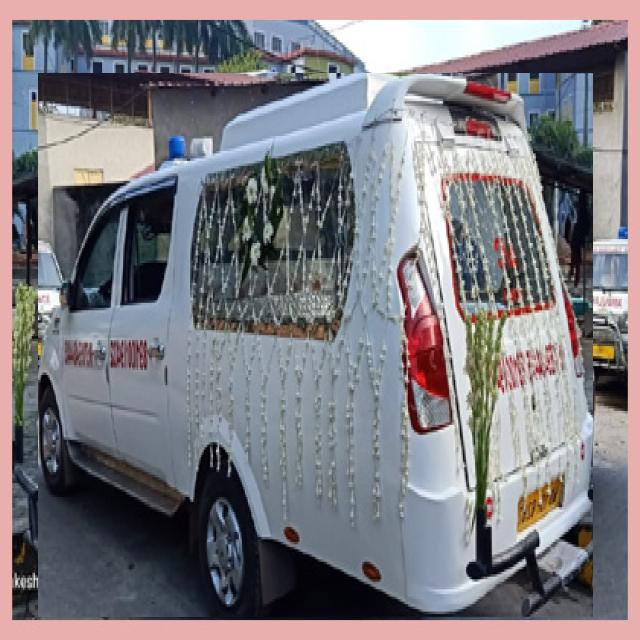emergency: (39, 73, 593, 617)
